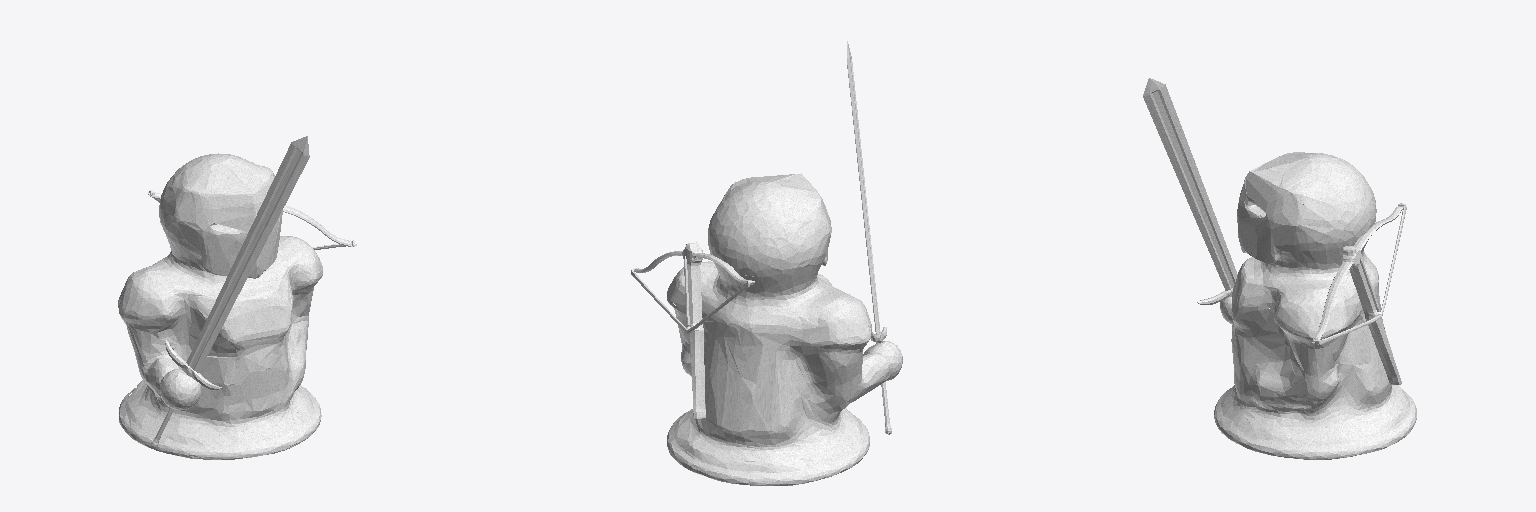
3 renders of one model, left to right at view 1: azimuth 30°, elevation 25°; view 2: azimuth 150°, elevation 25°; view 3: azimuth 270°, elevation 25°, orthographic.
Visible parts, largest first — view 1: Unit, Sword, Crossbow; view 2: Unit, Crossbow, Sword; view 3: Unit, Sword, Crossbow.
Part boxes in pixels (x1,y1,x2,y2): Unit: (118,153,322,459); Sword: (151,136,309,447); Crossbow: (148,190,356,249); Unit: (667,173,902,485); Crossbow: (631,242,754,418); Sword: (847,41,891,434); Unit: (1214,152,1416,459); Sword: (1143,78,1237,304); Crossbow: (1312,203,1406,384).
Bounding box in the file's own units: 0.7772 × 1.08 × 0.783.
Materials: 1 (1 with a texture image).